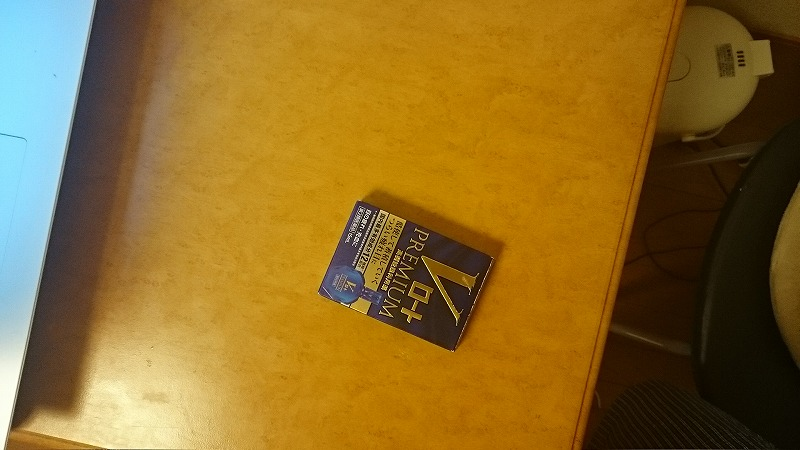D: (310, 191, 497, 357)
